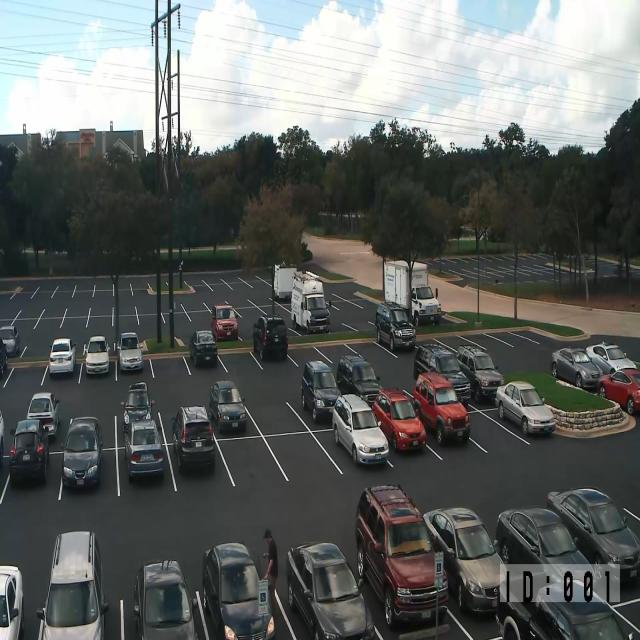car: (355, 484, 449, 630), (494, 507, 594, 604), (496, 574, 639, 640), (546, 486, 640, 584), (423, 506, 506, 616), (286, 540, 375, 640), (36, 530, 109, 639), (202, 542, 275, 640), (133, 559, 196, 639), (413, 372, 471, 446), (332, 393, 389, 466), (529, 600, 631, 639), (413, 343, 471, 408), (372, 388, 427, 452), (495, 380, 556, 436), (60, 416, 103, 490), (172, 405, 216, 473), (456, 345, 504, 403), (9, 418, 49, 483), (301, 360, 341, 423), (336, 354, 382, 408), (124, 418, 164, 479), (550, 346, 603, 391), (597, 367, 640, 415), (375, 302, 416, 352), (210, 380, 248, 432), (0, 564, 24, 640), (586, 340, 637, 374), (121, 381, 154, 433), (252, 314, 288, 361), (26, 392, 60, 439), (411, 283, 441, 327), (116, 331, 144, 372), (189, 330, 218, 368), (83, 335, 110, 375), (211, 303, 238, 342), (49, 337, 76, 375), (0, 324, 20, 356), (0, 337, 8, 378), (0, 408, 4, 466)
